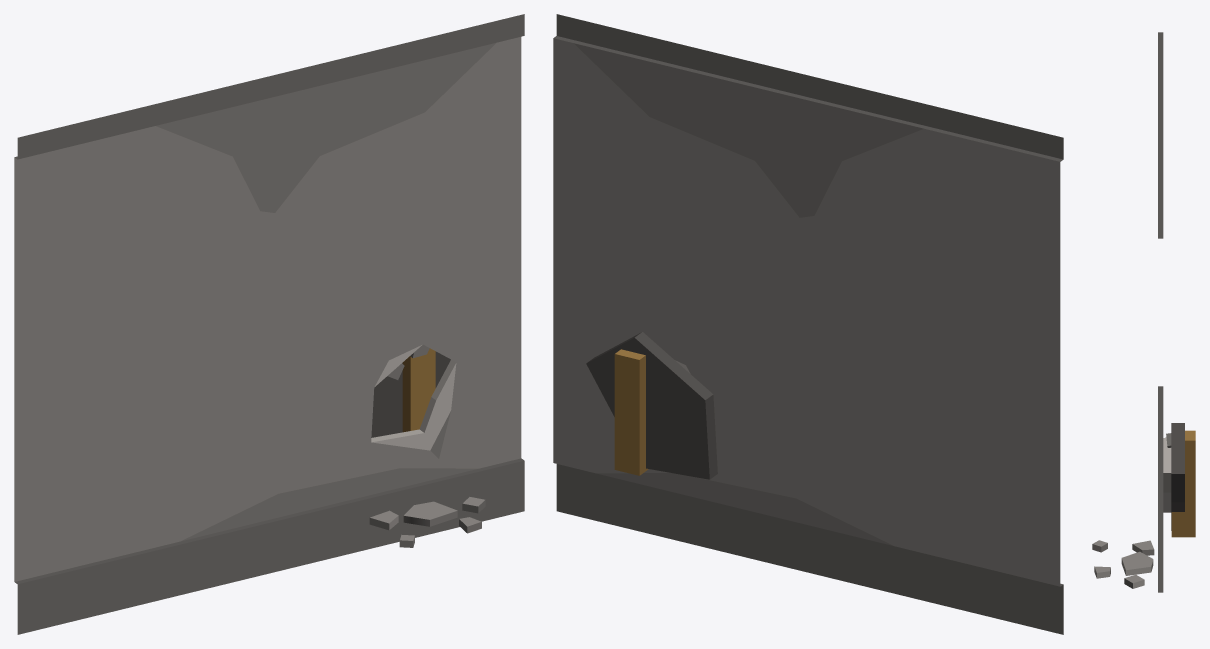
The model's file is AI_Env_Wall_Grey_Hole_Small.fbx.
3 renders of one model, left to right at view 1: azimuth 30°, elevation 25°; view 2: azimuth 150°, elevation 25°; view 3: azimuth 270°, elevation 25°, orthographic. The views are drawn at different scales.
Parts seen in each view (by area): view 1: AI_Env_Wall_Hole_Small; view 2: AI_Env_Wall_Hole_Small; view 3: AI_Env_Wall_Hole_Small.
Part boxes in pixels (x1,y1,x2,y2): AI_Env_Wall_Hole_Small: (14,14,524,634); AI_Env_Wall_Hole_Small: (553,14,1063,634); AI_Env_Wall_Hole_Small: (1092,32,1195,592).
Bounding box in the file's own units: 5 × 4.69 × 1.06.
